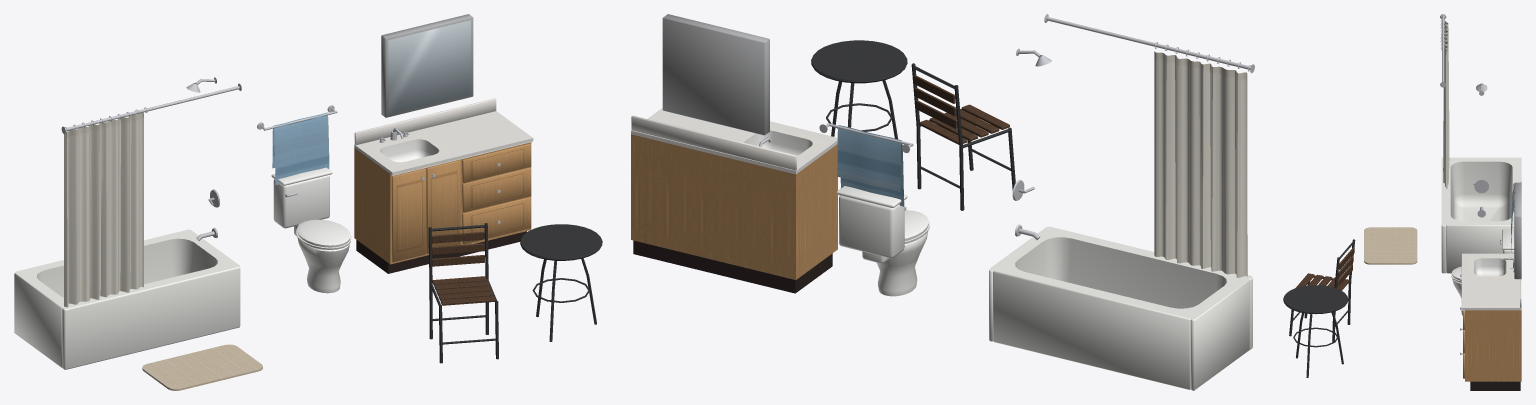
The model's file is us_bath_props.glb.
3 renders of one model, left to right at view 1: azimuth 30°, elevation 25°; view 2: azimuth 150°, elevation 25°; view 3: azimuth 270°, elevation 25°, orthographic. The views are drawn at different scales.
Parts seen in each view (by area): view 1: US_TUB, US_VANITY, US_TOILET, US_BALCONY_CHAIR, US_BALCONY_TABLE, US_BATHMAT, US_TOWELBAR; view 2: US_TUB, US_VANITY, US_TOILET, US_BALCONY_CHAIR, US_BALCONY_TABLE, US_TOWELBAR; view 3: US_VANITY, US_TUB, US_BALCONY_TABLE, US_BATHMAT, US_BALCONY_CHAIR, US_TOILET.
Part boxes in pixels (x1=…): US_TUB: x1=14, y1=77, x2=241, y2=369; US_VANITY: x1=354, y1=14, x2=533, y2=273; US_TOILET: x1=271, y1=167, x2=351, y2=293; US_BALCONY_CHAIR: x1=428, y1=223, x2=498, y2=363; US_BALCONY_TABLE: x1=520, y1=224, x2=602, y2=341; US_BATHMAT: x1=142, y1=344, x2=262, y2=390; US_TOWELBAR: x1=257, y1=105, x2=337, y2=185; US_TUB: x1=989, y1=14, x2=1254, y2=390; US_VANITY: x1=631, y1=14, x2=837, y2=293; US_TOILET: x1=836, y1=186, x2=929, y2=296; US_BALCONY_CHAIR: x1=911, y1=63, x2=1015, y2=210; US_BALCONY_TABLE: x1=811, y1=40, x2=907, y2=139; US_TOWELBAR: x1=819, y1=123, x2=913, y2=206; US_VANITY: x1=1460, y1=182, x2=1521, y2=390; US_TUB: x1=1440, y1=14, x2=1521, y2=273; US_BALCONY_TABLE: x1=1283, y1=285, x2=1348, y2=377; US_BATHMAT: x1=1364, y1=227, x2=1417, y2=264; US_BALCONY_CHAIR: x1=1289, y1=239, x2=1355, y2=342; US_TOILET: x1=1451, y1=229, x2=1514, y2=315.
Bounding box in the file's own units: 4.1 × 1.98 × 2.23.
Materials: 1 (1 with a texture image).
